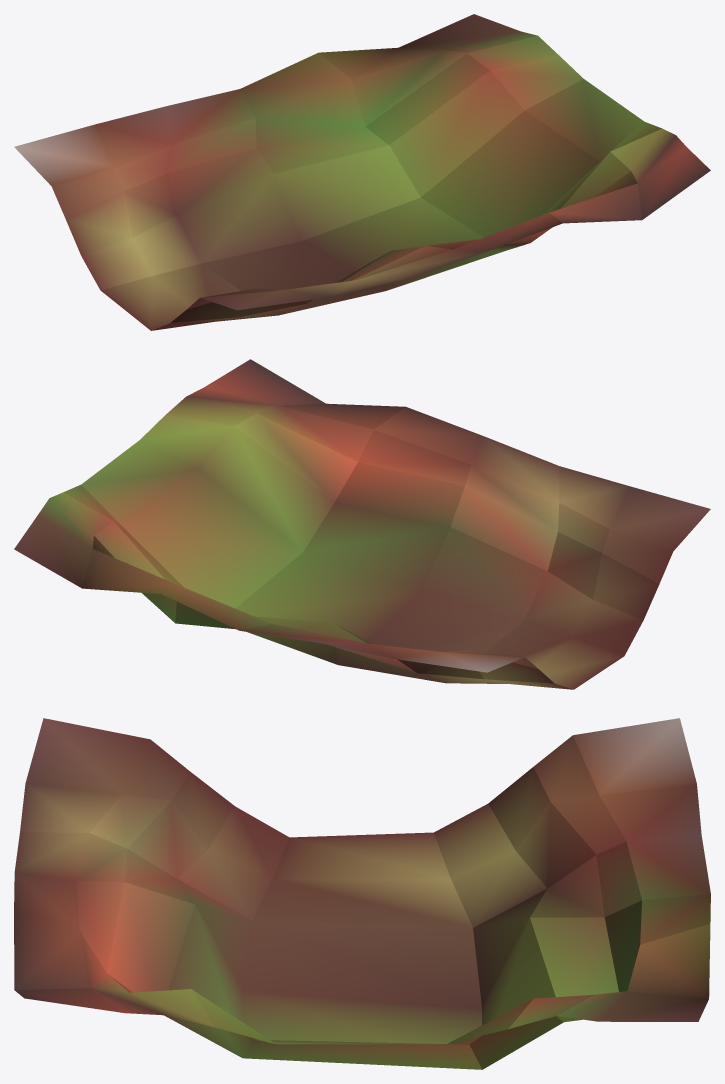
The model's file is terrainTreasure.fbx.
The picture shows the model from 3 angles, top to bottom: view 1: azimuth 30°, elevation 25°; view 2: azimuth 150°, elevation 25°; view 3: azimuth 270°, elevation 25°; orthographic projection. The views are drawn at different scales.
Visible parts, largest first — view 1: Plane.001; view 2: Plane.001; view 3: Plane.001.
Part boxes in pixels (x1,y1,x2,y2): Plane.001: (14, 14, 710, 330); Plane.001: (14, 359, 710, 689); Plane.001: (14, 718, 710, 1069).
Bounding box in the file's own units: 730 × 182 × 633.
